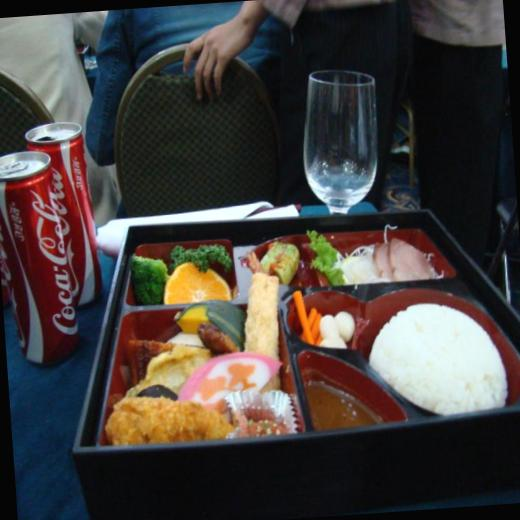Grape: (160, 258, 233, 304)
